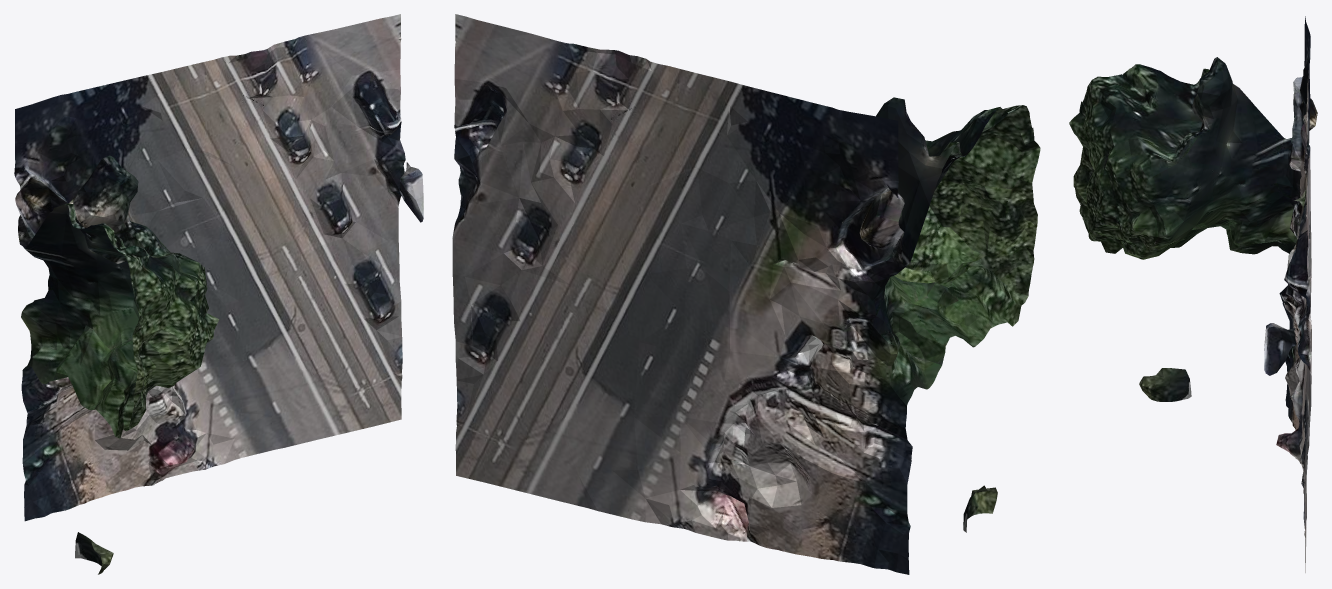
Rendered from Tile_+032_+022_L20_0002100.obj.
The picture shows the model from 3 angles, left to right: view 1: azimuth 30°, elevation 25°; view 2: azimuth 150°, elevation 25°; view 3: azimuth 270°, elevation 25°; orthographic projection. The views are drawn at different scales.
Bounding box in the file's own units: 31.5 × 31.5 × 18.53.
1 material, 1 textured.
